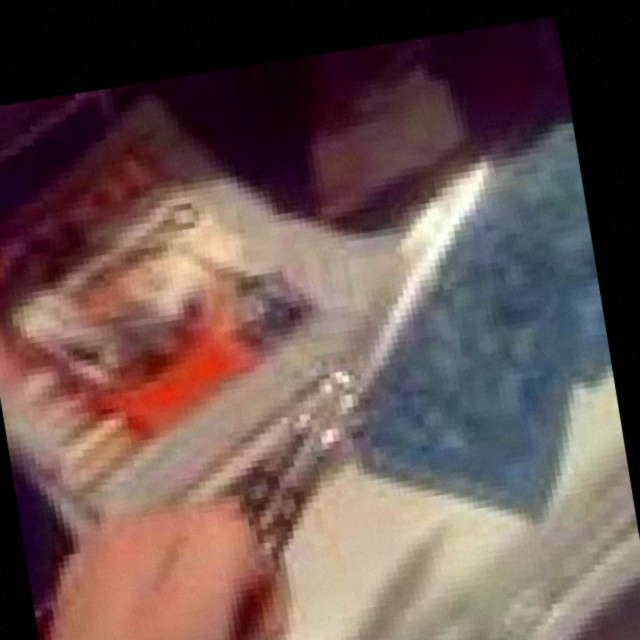Sharp-Object: (192, 165, 552, 600)
